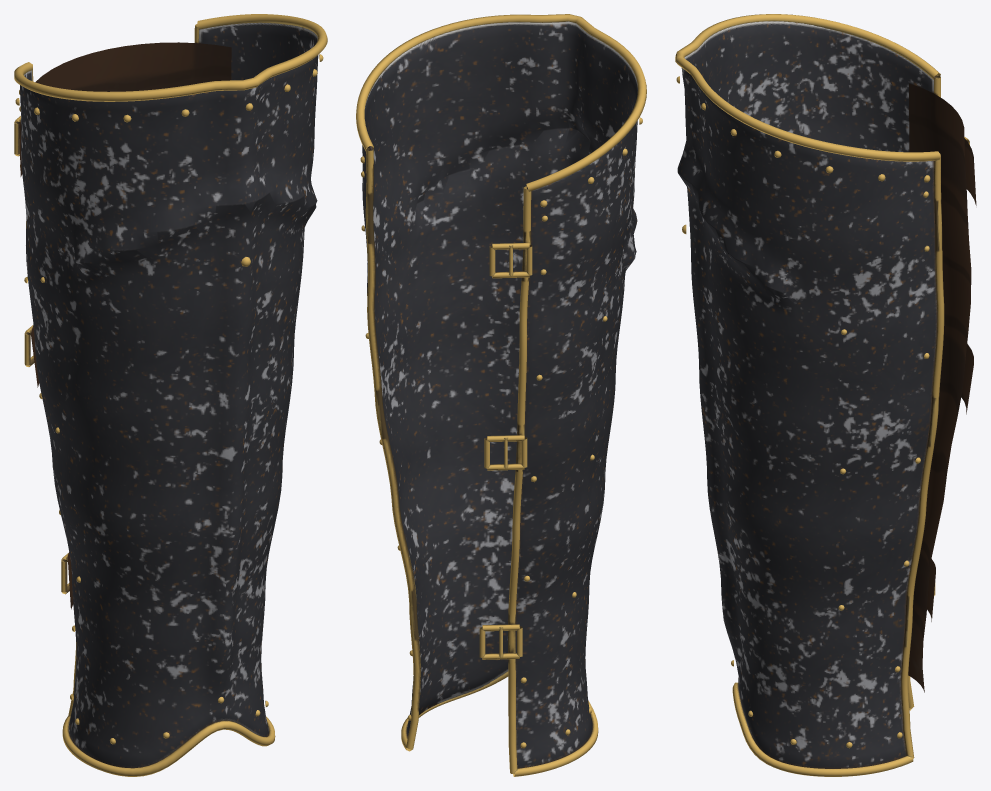
Rendered from SM_EagleGreaves_R.fbx.
3 renders of one model, left to right at view 1: azimuth 30°, elevation 25°; view 2: azimuth 150°, elevation 25°; view 3: azimuth 270°, elevation 25°, orthographic. The views are drawn at different scales.
Visible parts, largest first — view 1: SM_EagleGreaves_R; view 2: SM_EagleGreaves_R; view 3: SM_EagleGreaves_R.
Boxes of the visible parts, bbox=[...] form: SM_EagleGreaves_R: bbox=[14, 14, 327, 776]; SM_EagleGreaves_R: bbox=[356, 14, 646, 776]; SM_EagleGreaves_R: bbox=[675, 14, 976, 776].
Size of the model in its own units: 0.1492 by 0.3744 by 0.1497.
